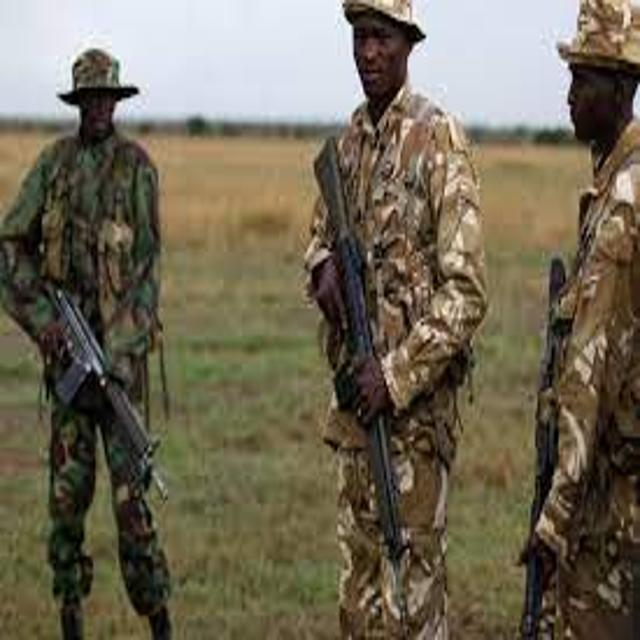gun: (286, 124, 446, 632), (13, 226, 196, 545), (494, 234, 587, 640)
ranger: (264, 3, 517, 640), (3, 35, 218, 628), (481, 1, 640, 636)
